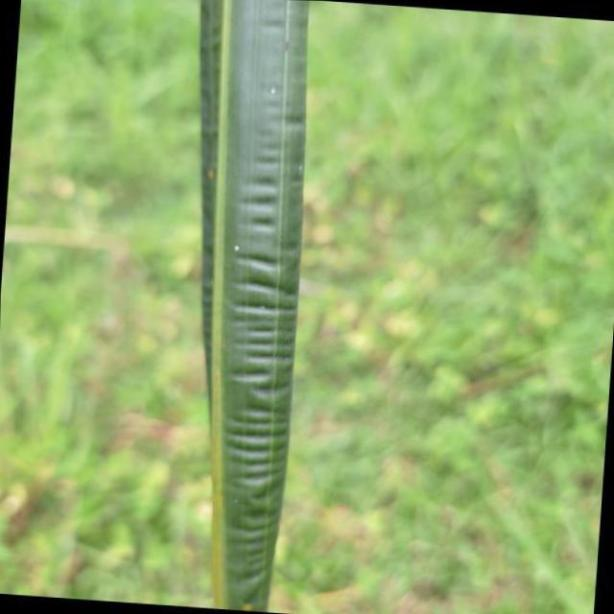Boron: (198, 1, 310, 614)
